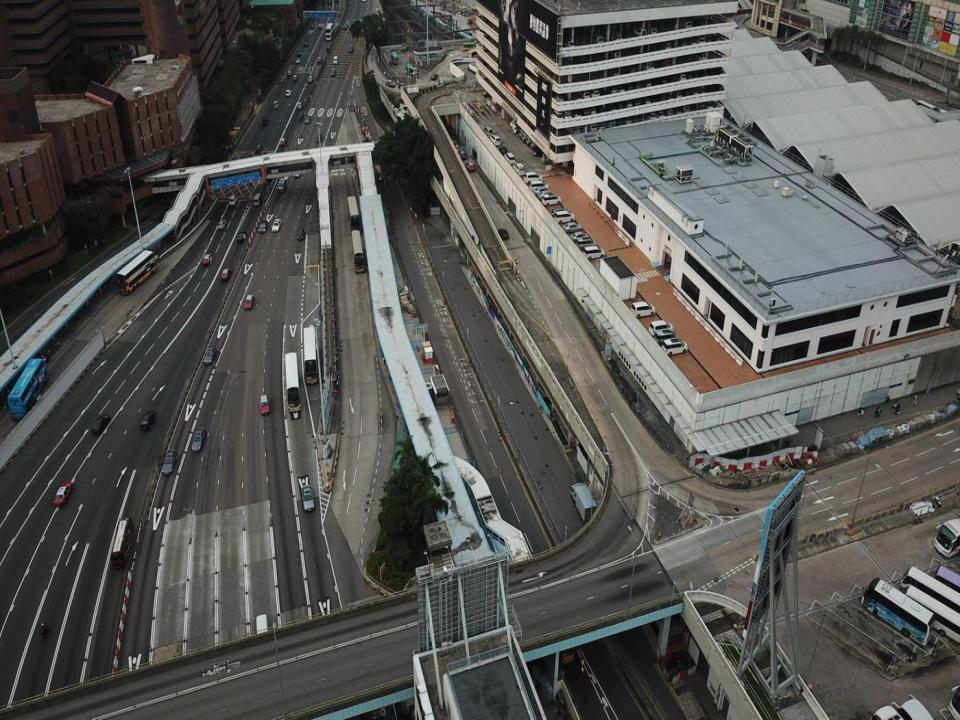bus: (860, 577, 935, 645), (899, 584, 960, 648), (901, 565, 960, 627), (7, 357, 48, 421), (115, 249, 157, 296), (111, 517, 134, 569), (933, 564, 960, 608), (890, 694, 933, 719), (933, 519, 960, 558), (285, 352, 301, 411), (304, 326, 317, 385), (351, 229, 364, 274), (347, 194, 360, 234), (405, 63, 419, 77), (462, 42, 481, 52), (467, 48, 486, 58), (325, 22, 335, 41), (253, 192, 261, 206), (391, 51, 398, 65)
car: (53, 482, 72, 506), (162, 450, 177, 474), (191, 428, 206, 452), (92, 415, 110, 434), (302, 484, 314, 512), (140, 412, 156, 430), (259, 393, 270, 415), (203, 346, 216, 364), (570, 231, 588, 243), (563, 222, 581, 233), (532, 144, 547, 156), (244, 294, 255, 310), (537, 190, 553, 200), (497, 228, 509, 240), (258, 220, 268, 234), (448, 140, 459, 152), (202, 253, 214, 264), (221, 267, 231, 280), (272, 218, 281, 232), (533, 188, 548, 196), (512, 126, 527, 134), (237, 231, 247, 242), (465, 162, 475, 172), (384, 79, 396, 87), (512, 123, 525, 130), (457, 150, 466, 160), (297, 228, 304, 240), (498, 147, 507, 156), (294, 167, 301, 177), (510, 120, 521, 126), (218, 220, 226, 228), (316, 132, 322, 142), (479, 43, 487, 50), (304, 115, 310, 123), (280, 138, 286, 146), (286, 89, 292, 96), (343, 22, 348, 30), (308, 76, 314, 82), (316, 57, 322, 63), (331, 68, 336, 75), (432, 74, 437, 80), (292, 75, 298, 80), (287, 70, 292, 76), (297, 50, 302, 56), (304, 41, 308, 47), (295, 59, 300, 63), (327, 0, 331, 4), (310, 24, 314, 28), (318, 24, 322, 28)
truck: (553, 609, 575, 667), (570, 480, 598, 524)
van: (660, 338, 687, 355), (629, 301, 655, 318), (648, 319, 673, 336), (653, 330, 678, 345), (581, 245, 605, 260), (553, 210, 575, 225), (574, 237, 596, 250), (550, 206, 569, 220), (542, 192, 561, 206), (521, 130, 540, 144), (523, 172, 542, 184), (530, 138, 549, 150), (540, 152, 558, 164), (526, 134, 543, 146), (529, 181, 548, 191), (518, 128, 534, 139), (512, 162, 524, 175), (483, 86, 496, 97), (504, 152, 515, 164), (482, 126, 493, 137), (490, 134, 500, 146), (278, 178, 286, 192), (398, 82, 409, 90), (262, 116, 269, 126), (478, 28, 486, 36), (229, 196, 237, 204), (273, 99, 280, 108), (297, 102, 303, 110), (348, 44, 353, 52), (333, 56, 338, 64), (256, 144, 261, 152)
